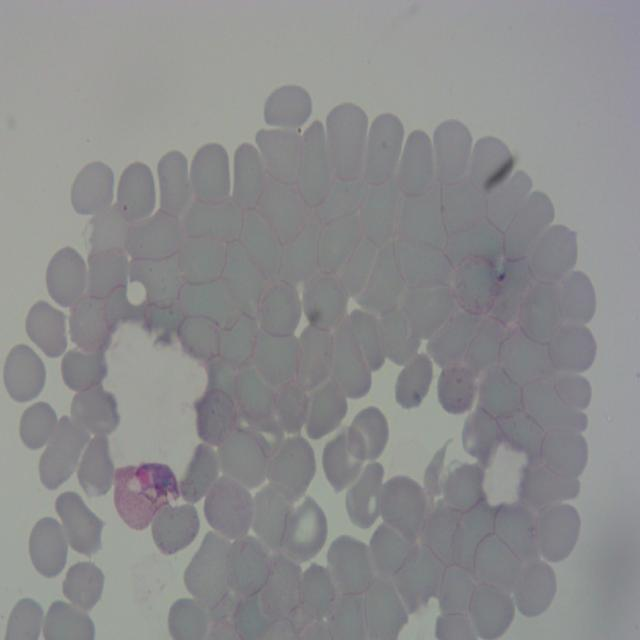leukocyte: (252, 171, 311, 249), (518, 375, 590, 436), (36, 415, 89, 493), (392, 180, 448, 252), (276, 210, 324, 293), (392, 544, 447, 616), (355, 237, 406, 314), (392, 233, 455, 295), (220, 240, 270, 316), (184, 532, 234, 606), (503, 191, 554, 263), (199, 473, 256, 537), (239, 208, 284, 289), (442, 219, 507, 275), (176, 277, 242, 332), (429, 304, 484, 370), (324, 101, 371, 178), (450, 502, 500, 574), (523, 443, 582, 504), (396, 284, 458, 342), (215, 428, 271, 492), (488, 256, 537, 329), (277, 497, 329, 565), (231, 358, 278, 433), (253, 124, 308, 187), (526, 220, 581, 282), (224, 531, 274, 599), (325, 532, 377, 597), (269, 430, 314, 505), (379, 476, 430, 542), (180, 195, 246, 246), (188, 140, 234, 212), (342, 459, 388, 530), (70, 291, 120, 356), (362, 112, 407, 184), (359, 176, 404, 248), (254, 273, 303, 339), (316, 206, 365, 272), (56, 484, 102, 554), (451, 251, 500, 316), (532, 500, 580, 566), (509, 553, 558, 617), (369, 518, 418, 582), (299, 116, 333, 208), (0, 340, 47, 406), (125, 208, 184, 260), (430, 116, 475, 184), (467, 578, 518, 638), (302, 375, 349, 440), (518, 279, 565, 344), (466, 134, 516, 195), (155, 144, 195, 220), (438, 177, 487, 239), (44, 244, 90, 310), (321, 426, 367, 492), (301, 264, 347, 330), (484, 170, 534, 230), (262, 554, 304, 625), (329, 329, 372, 398), (421, 500, 464, 569), (494, 498, 541, 561), (252, 482, 298, 546), (26, 514, 70, 580), (338, 234, 382, 300), (398, 126, 437, 200), (69, 388, 122, 442), (314, 174, 369, 226), (253, 328, 299, 390), (192, 385, 241, 443), (541, 422, 589, 481), (479, 359, 523, 423), (468, 316, 512, 380), (261, 84, 312, 138), (177, 234, 228, 288), (381, 298, 424, 362), (75, 433, 116, 499), (116, 159, 158, 222), (346, 404, 390, 464), (177, 442, 221, 502), (346, 310, 386, 376), (61, 558, 106, 616), (70, 160, 114, 218), (60, 342, 109, 393), (436, 357, 478, 416), (472, 533, 514, 592), (24, 301, 68, 357), (232, 138, 266, 210), (17, 402, 62, 456), (152, 504, 199, 555), (436, 563, 478, 620), (462, 407, 504, 463), (394, 353, 434, 411), (299, 562, 336, 624), (560, 270, 598, 330), (88, 245, 130, 299), (140, 296, 187, 343), (550, 324, 596, 372), (218, 314, 261, 363), (298, 324, 332, 385), (274, 377, 310, 434), (180, 309, 222, 356), (444, 465, 484, 509), (548, 372, 590, 412)
schizont: (111, 460, 177, 529)
